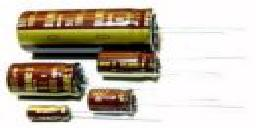Electrolytic-Capacitor: (13, 6, 239, 50), (24, 102, 247, 126), (94, 48, 245, 75), (2, 58, 89, 100), (87, 85, 226, 108)
